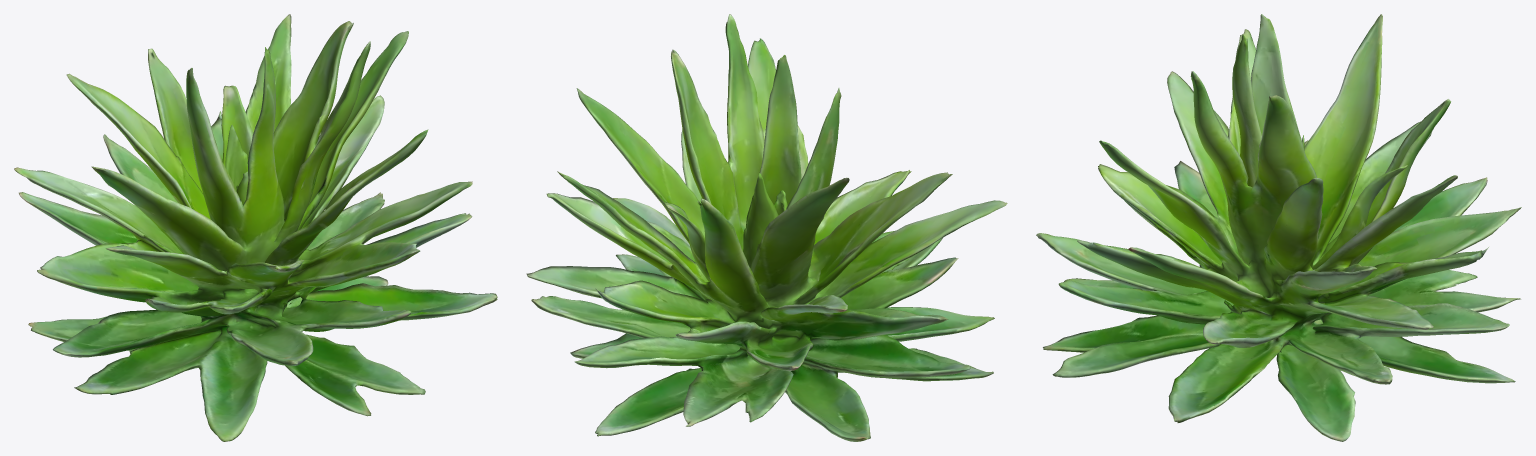
The model's file is aloevera.glb.
The picture shows the model from 3 angles, left to right: view 1: azimuth 30°, elevation 25°; view 2: azimuth 150°, elevation 25°; view 3: azimuth 270°, elevation 25°; orthographic projection. The views are drawn at different scales.
Bounding box in the file's own units: 1.94 × 1.47 × 1.96.
1 material, 1 textured.
